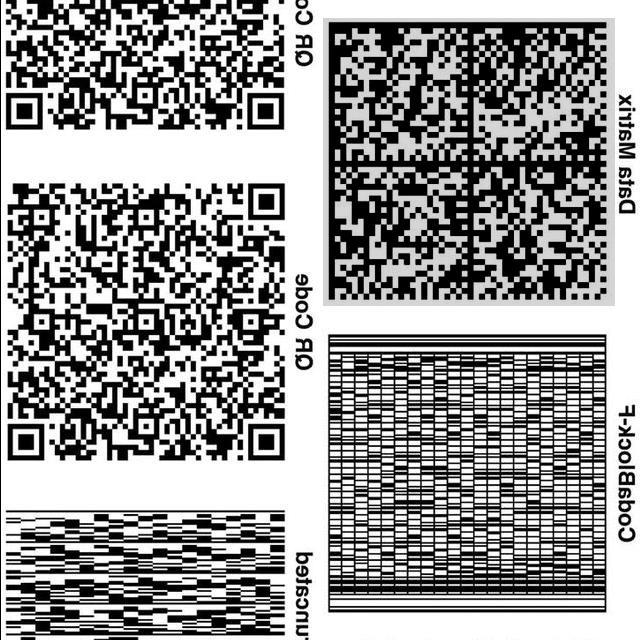Data-Matrix: (322, 18, 614, 306)
